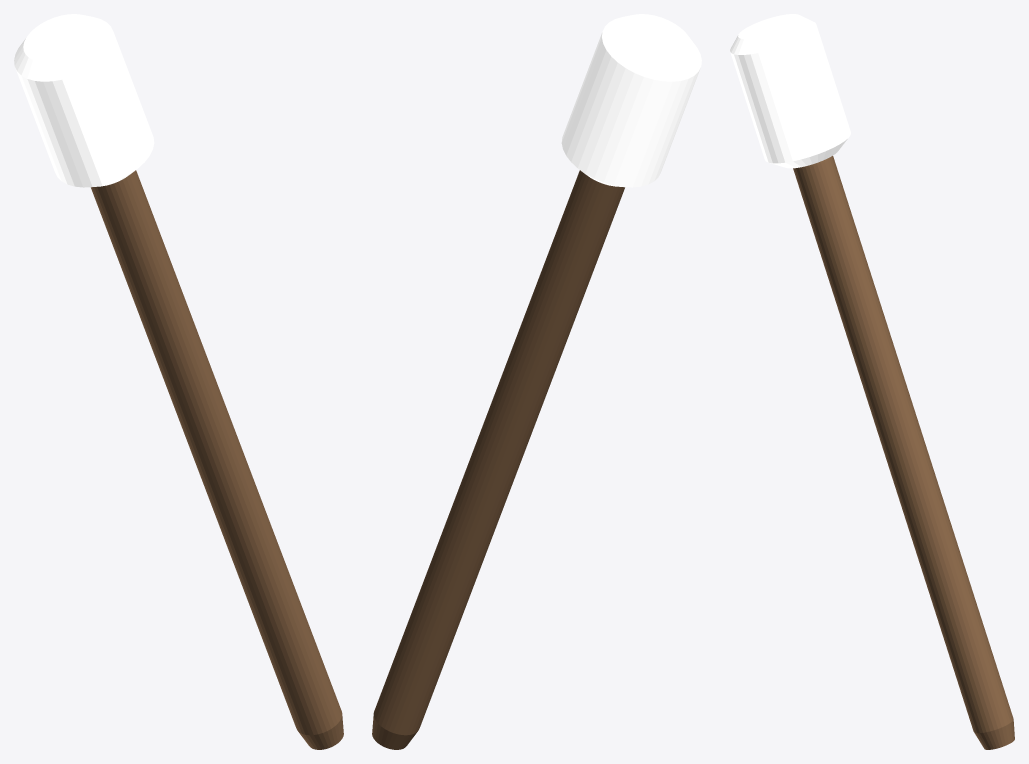
File: lever_handle.glb
3 renders of one model, left to right at view 1: azimuth 30°, elevation 25°; view 2: azimuth 150°, elevation 25°; view 3: azimuth 330°, elevation 25°, orthographic. The views are drawn at different scales.
Parts seen in each view (by area): view 1: lever_handle; view 2: lever_handle; view 3: lever_handle.
Boxes of the visible parts, box(x1,y1,x2,y2) form: lever_handle: box(14, 14, 343, 749); lever_handle: box(372, 14, 701, 749); lever_handle: box(730, 14, 1014, 749).
Size of the model in its own units: 0.3946 by 0.923 by 0.112.
